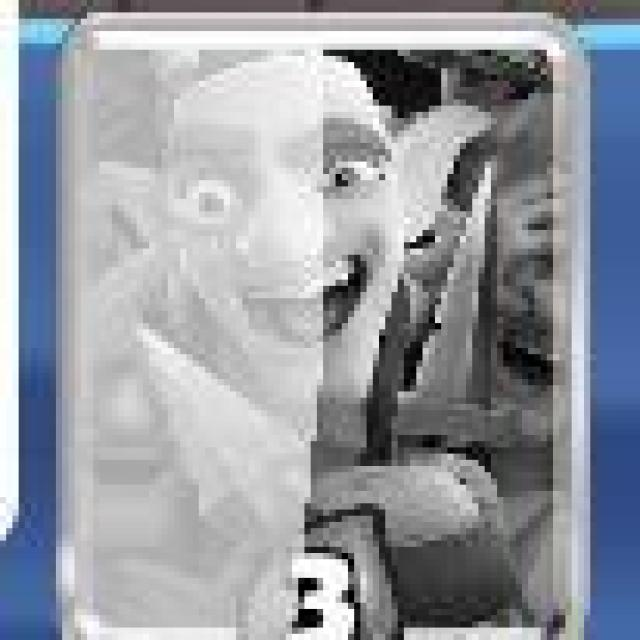Goblin_Gang: (58, 9, 589, 640)
